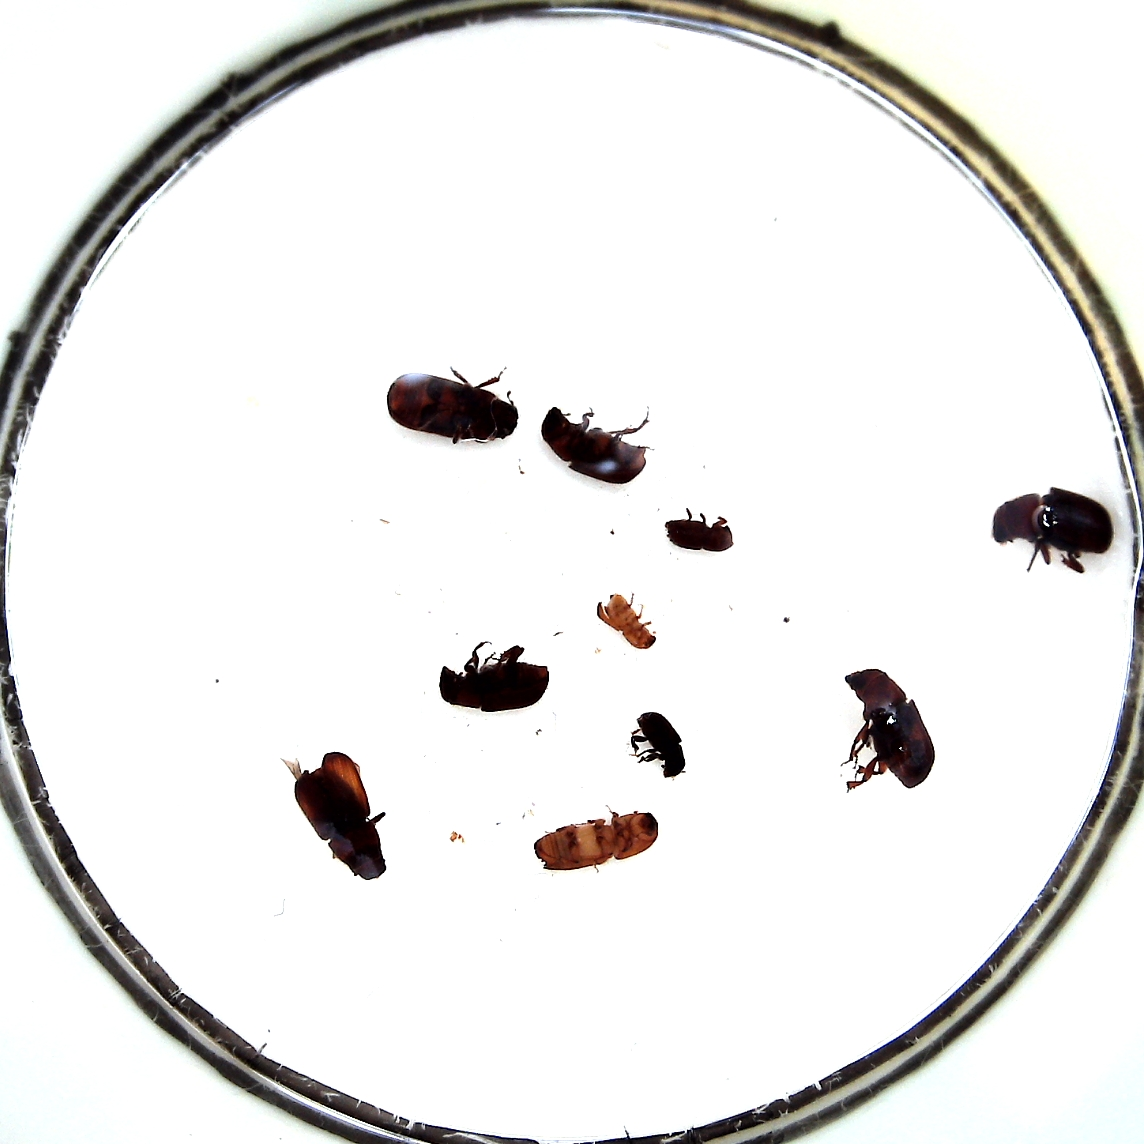Boerner: (533, 807, 661, 873)
Leconte: (291, 749, 387, 881), (843, 667, 937, 793), (992, 484, 1116, 574), (386, 372, 518, 443), (540, 406, 650, 484), (437, 644, 551, 714)
Linnaeus: (663, 516, 735, 554)
acuminatus: (595, 594, 656, 652)
armandi: (628, 711, 688, 778)
